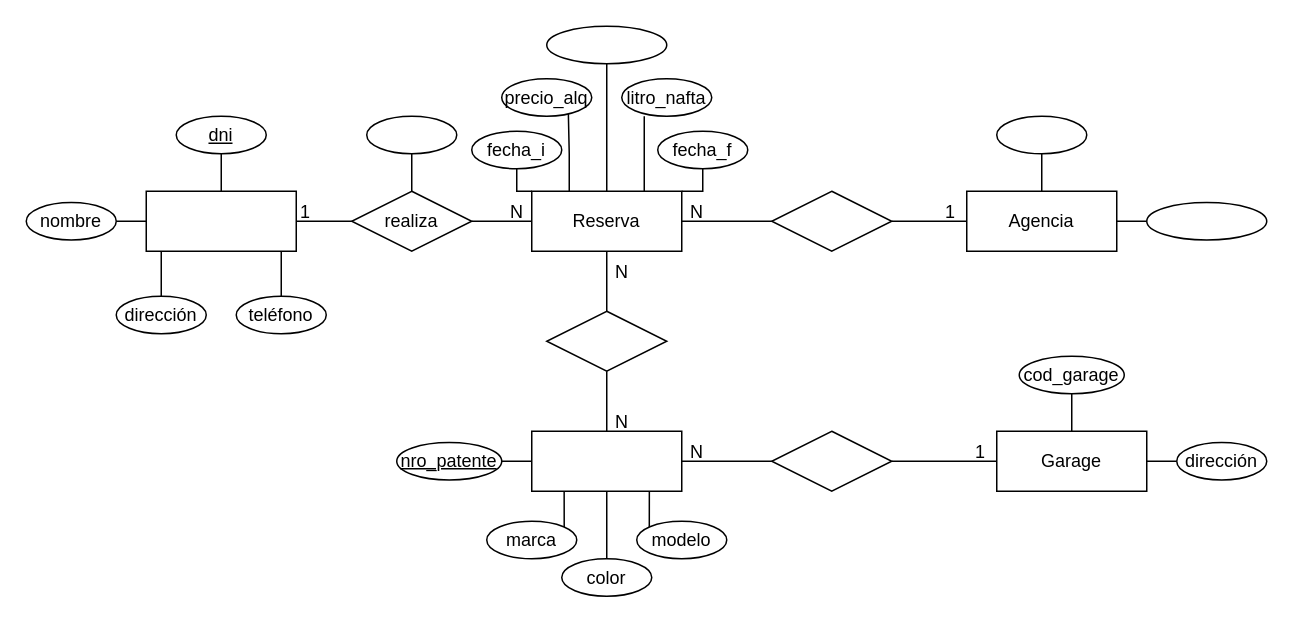
Image size: 1293x623. Some labels were removed from this diagram. Each missing label, with the centre of its shape:
almacena: point 831,460
Cliente: point 220,220
Coche: point 606,460
cod_reserva: point 606,44
cuit: point 1041,134
fecha: point 411,134
hecha por: point 831,220
incluye: point 606,340
razon_social: point 1206,220
